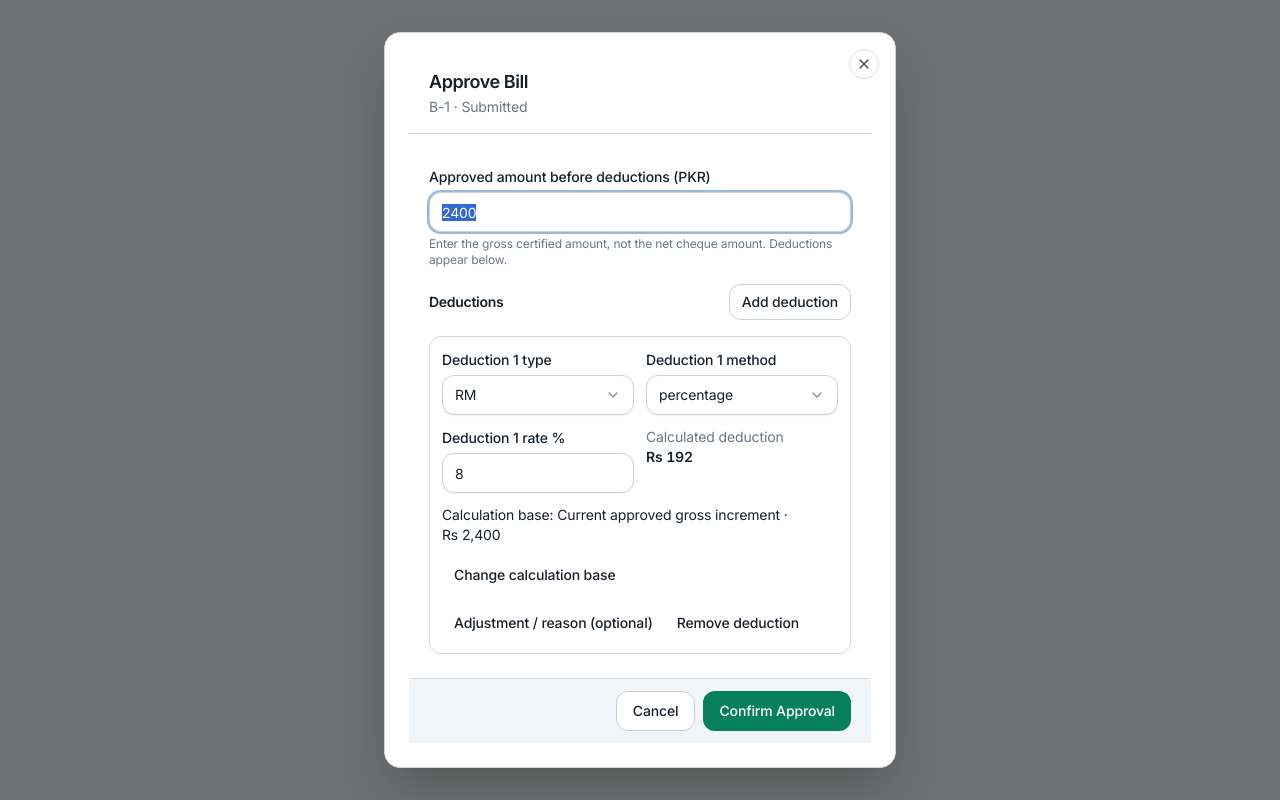
bill stage dialogs › shows percentage base and rejects invalid rate and deductions above gross
Expected: the text "Calculation base: Current approved gross increment" shows "2,400", [442,526,500,543]
Clear the number field named "Deduction 1 rate %" at [538, 473], box [442,453,634,493]
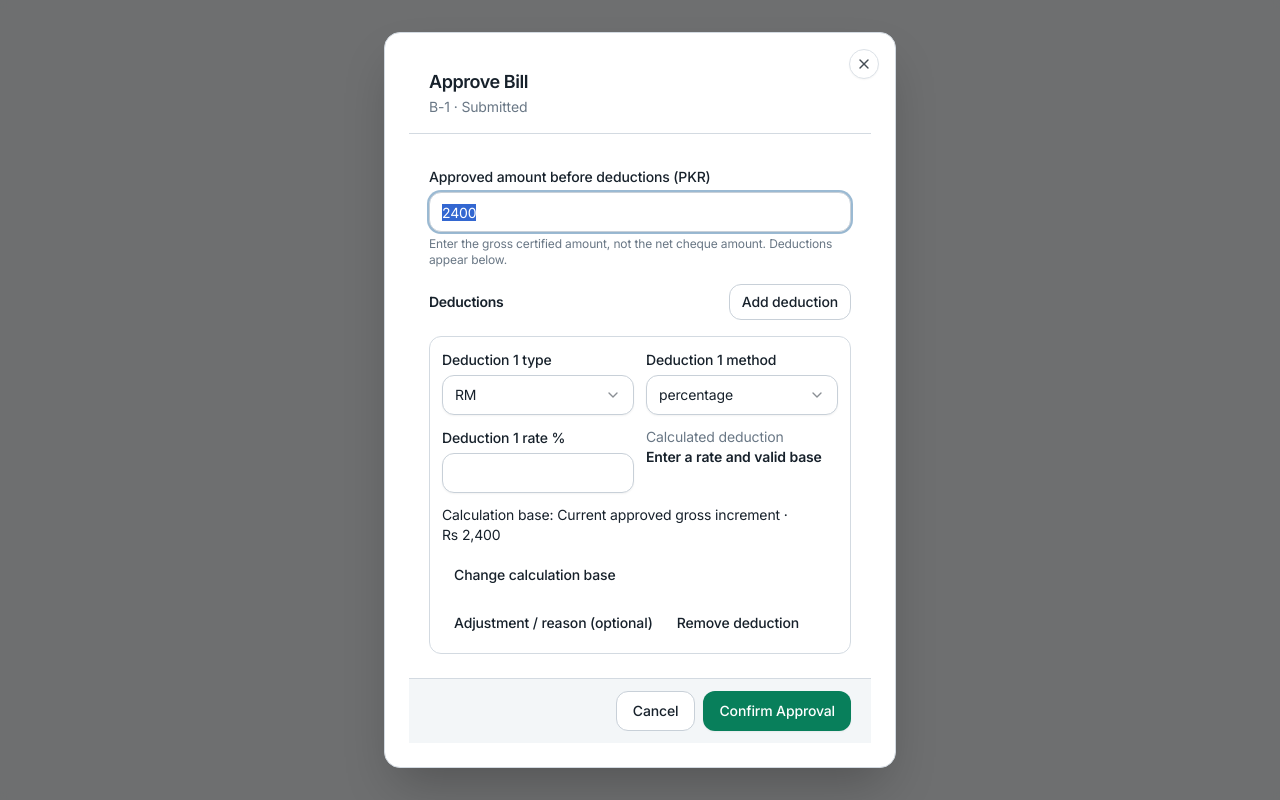
Click the button "Confirm Approval" at [777, 711], box [704,691,851,731]
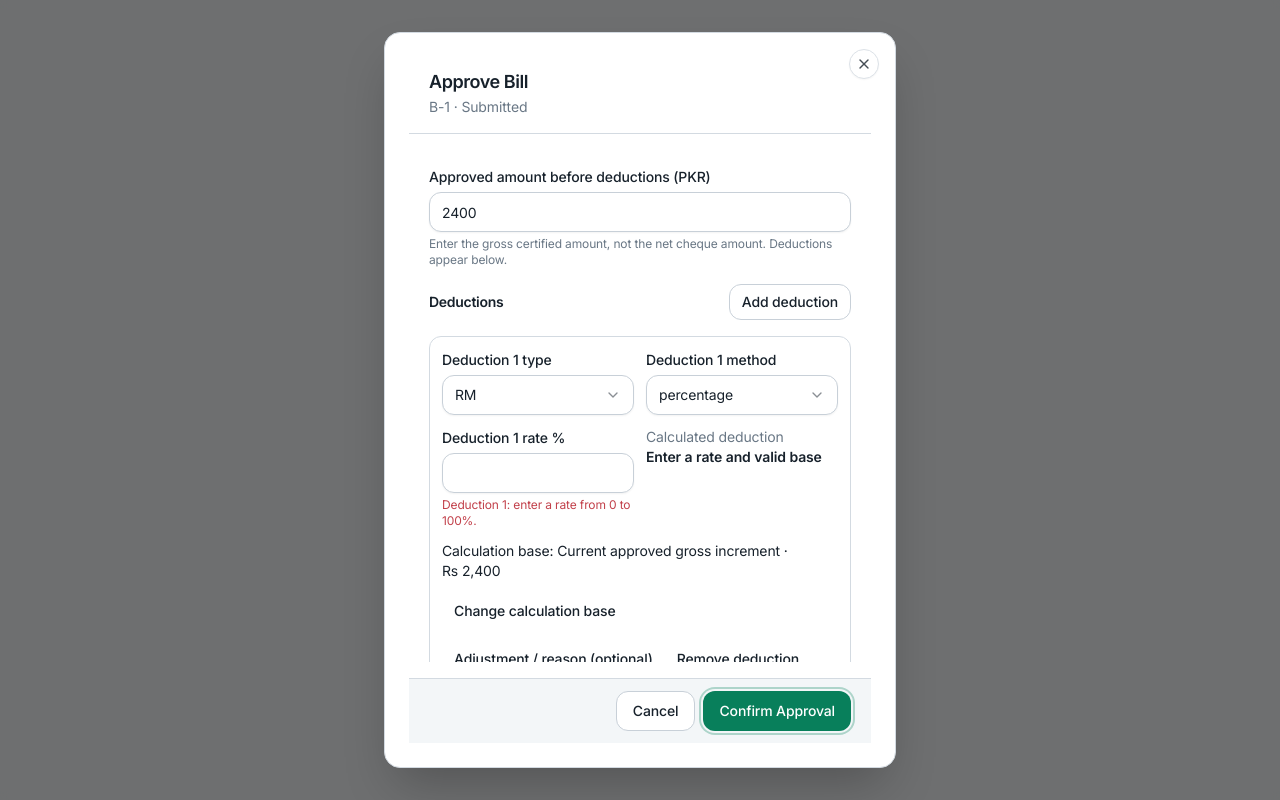
Expected: the message shows "enter a rate", [442,497,630,528]
Type "101" into the number field named "Deduction 1 rate %" at [538, 473], box [442,453,634,493]
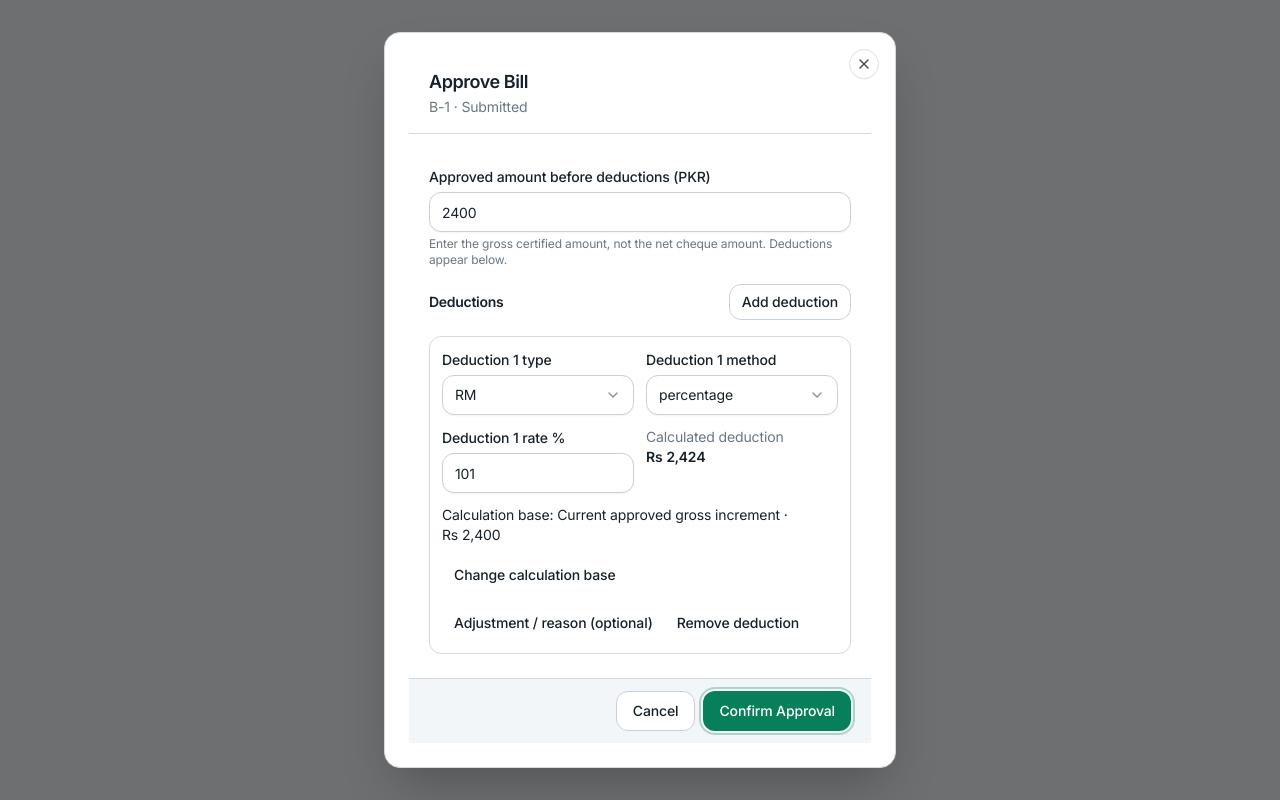
Click the button "Confirm Approval" at [777, 711], box [704,691,851,731]
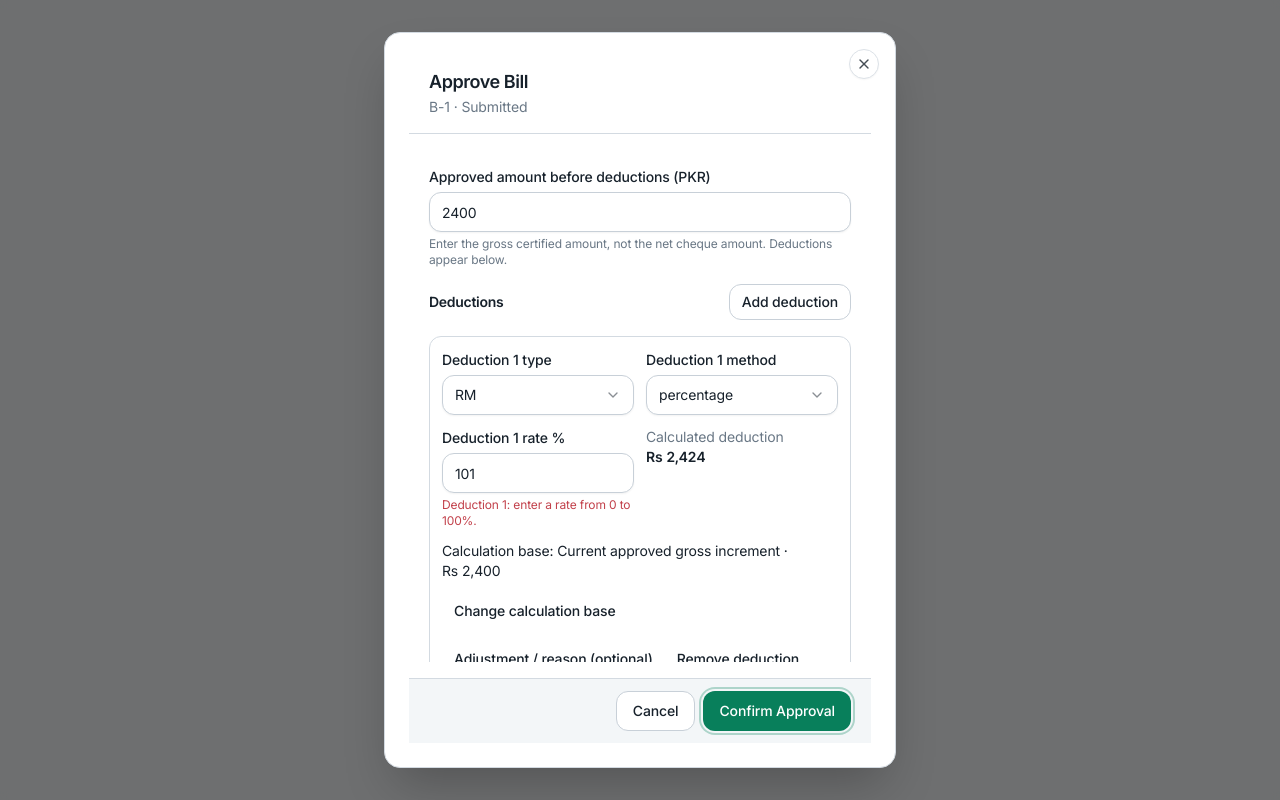
Expected: the message shows "enter a rate", [442,497,630,528]
